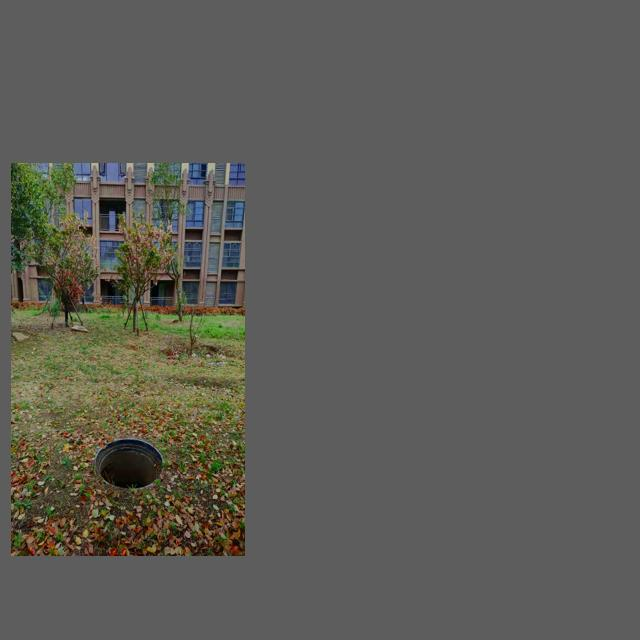lose: (96, 438, 163, 490)
